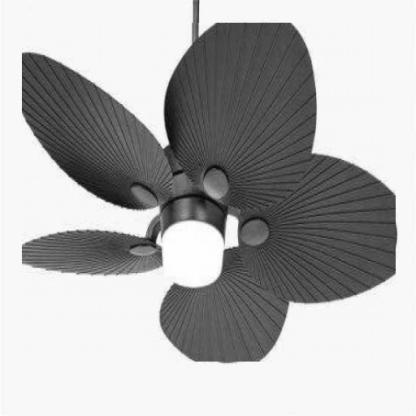ceiling-fan: (22, 23, 396, 362)
